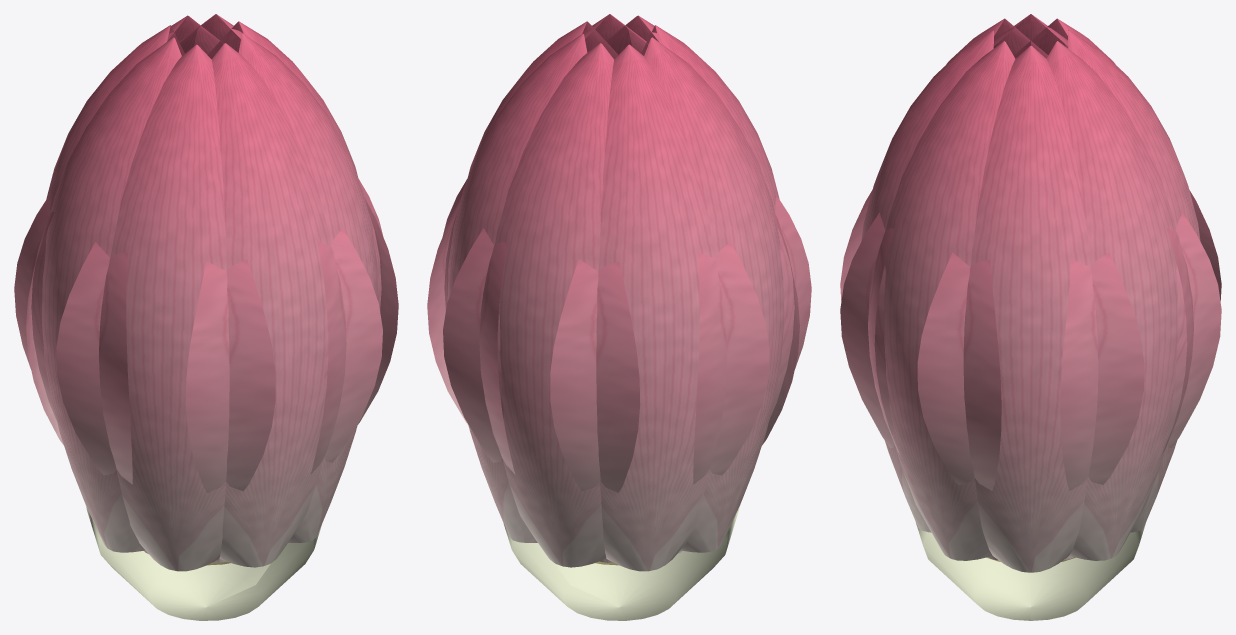
Rendered from lotus.glb.
The picture shows the model from 3 angles, left to right: view 1: azimuth 30°, elevation 25°; view 2: azimuth 150°, elevation 25°; view 3: azimuth 270°, elevation 25°; orthographic projection.
Visible parts, largest first — view 1: Petals_Outer, Receptacle; view 2: Petals_Outer, Receptacle; view 3: Petals_Outer, Receptacle.
Boxes of the visible parts, x1=… form: Petals_Outer: x1=14, y1=14, x2=398, y2=571; Receptacle: x1=86, y1=507, x2=321, y2=620; Petals_Outer: x1=427, y1=14, x2=811, y2=571; Receptacle: x1=504, y1=507, x2=739, y2=620; Petals_Outer: x1=840, y1=14, x2=1221, y2=572; Receptacle: x1=916, y1=523, x2=1145, y2=620.
Size of the model in its own units: 0.0671 by 0.112 by 0.0671.
3 materials, 1 textured.
